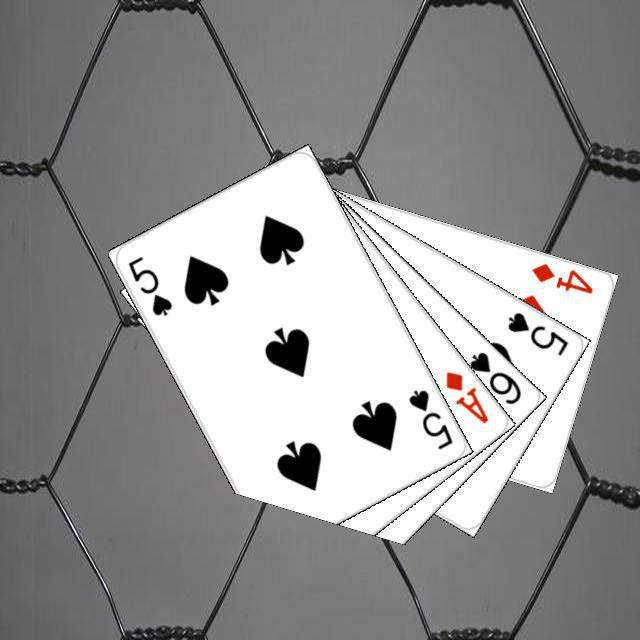4d: (526, 258, 595, 296)
5s: (122, 251, 174, 318), (502, 307, 570, 358), (403, 384, 454, 452)
6s: (464, 346, 523, 407)
Ad: (440, 366, 491, 426)
